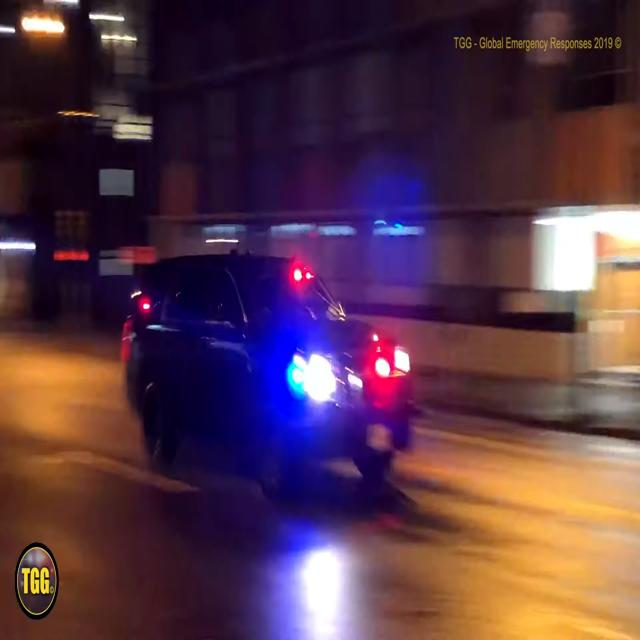emergency-vehicles: (107, 236, 429, 489)
